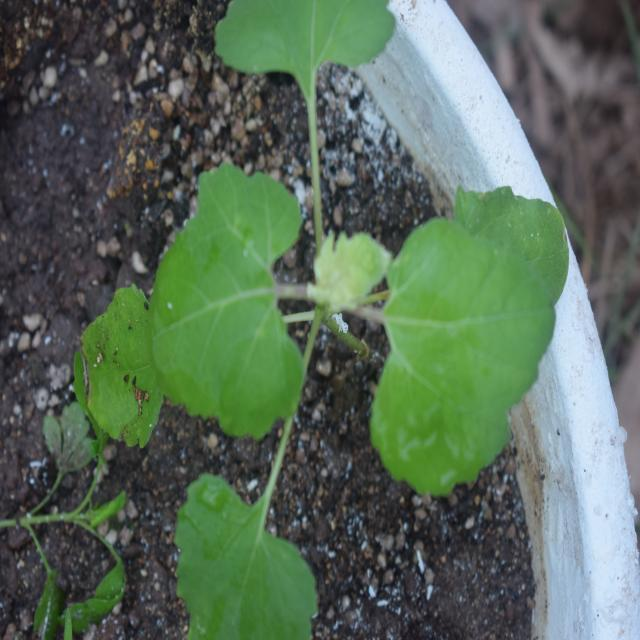cocklebur: (137, 12, 561, 548)
